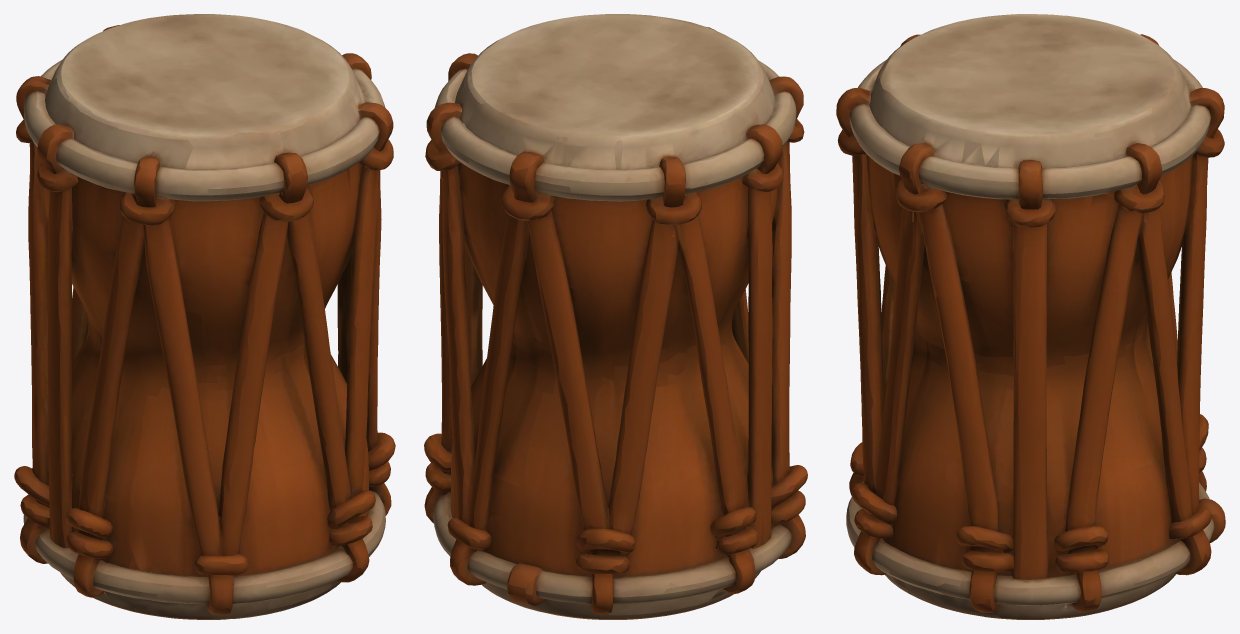
The model's file is talking_drum.glb.
The picture shows the model from 3 angles, left to right: view 1: azimuth 30°, elevation 25°; view 2: azimuth 150°, elevation 25°; view 3: azimuth 270°, elevation 25°; orthographic projection.
Visible parts, largest first — view 1: geometry_0; view 2: geometry_0; view 3: geometry_0.
Part boxes in pixels (x1,y1,x2,y2): geometry_0: (14,14,395,619); geometry_0: (424,14,807,619); geometry_0: (836,14,1225,619).
Size of the model in its own units: 0.4251 by 0.6 by 0.4362.
Materials: 1 (1 with a texture image).
